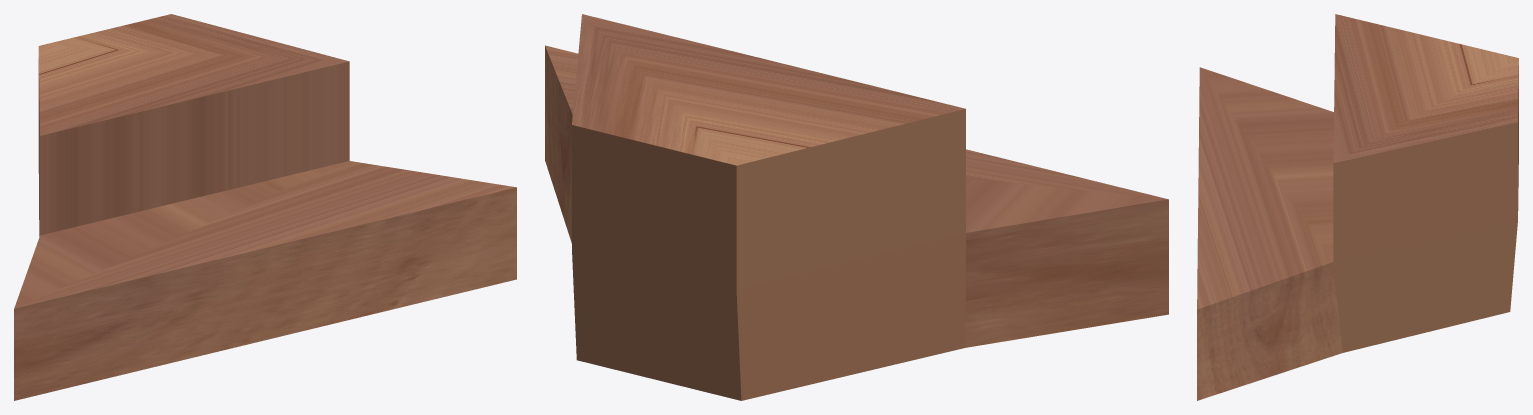
The model's file is triangulo do canto.fbx.
3 views of the same model, side by side, from view 1: azimuth 30°, elevation 25°; view 2: azimuth 150°, elevation 25°; view 3: azimuth 270°, elevation 25° (orthographic). The views are drawn at different scales.
Visible parts, largest first — view 1: Escada triagulo; view 2: Escada triagulo; view 3: Escada triagulo.
Boxes of the visible parts, bbox=[...] form: Escada triagulo: bbox=[14, 14, 516, 400]; Escada triagulo: bbox=[545, 14, 1168, 400]; Escada triagulo: bbox=[1197, 14, 1518, 400].
Bounding box in the file's own units: 2.08 × 0.7607 × 1.17.
1 material, 1 textured.
